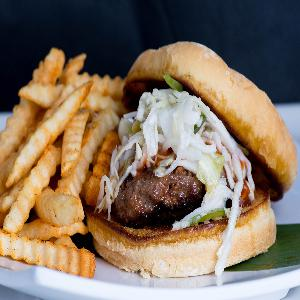cheeseburger_475cal: (115, 27, 296, 288)
fries_350cal: (8, 36, 123, 286)
